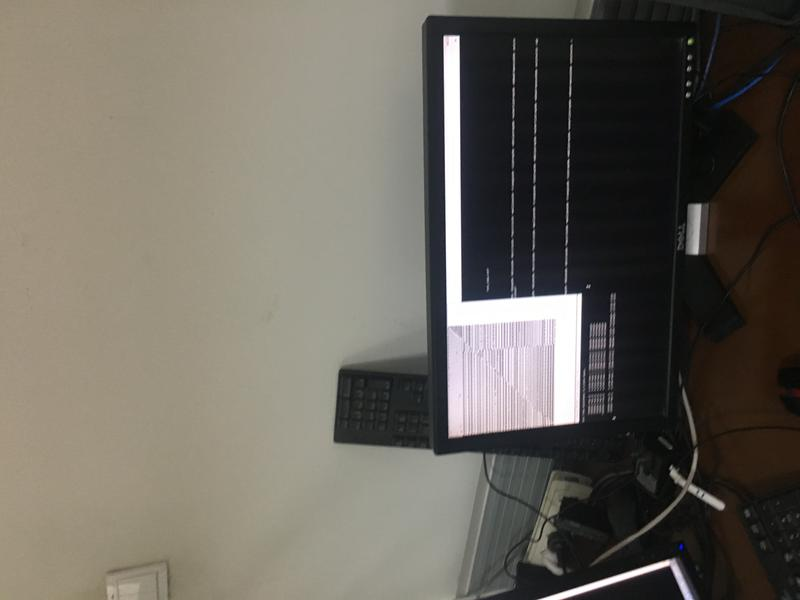xrandr_pass: (435, 291, 586, 439)
